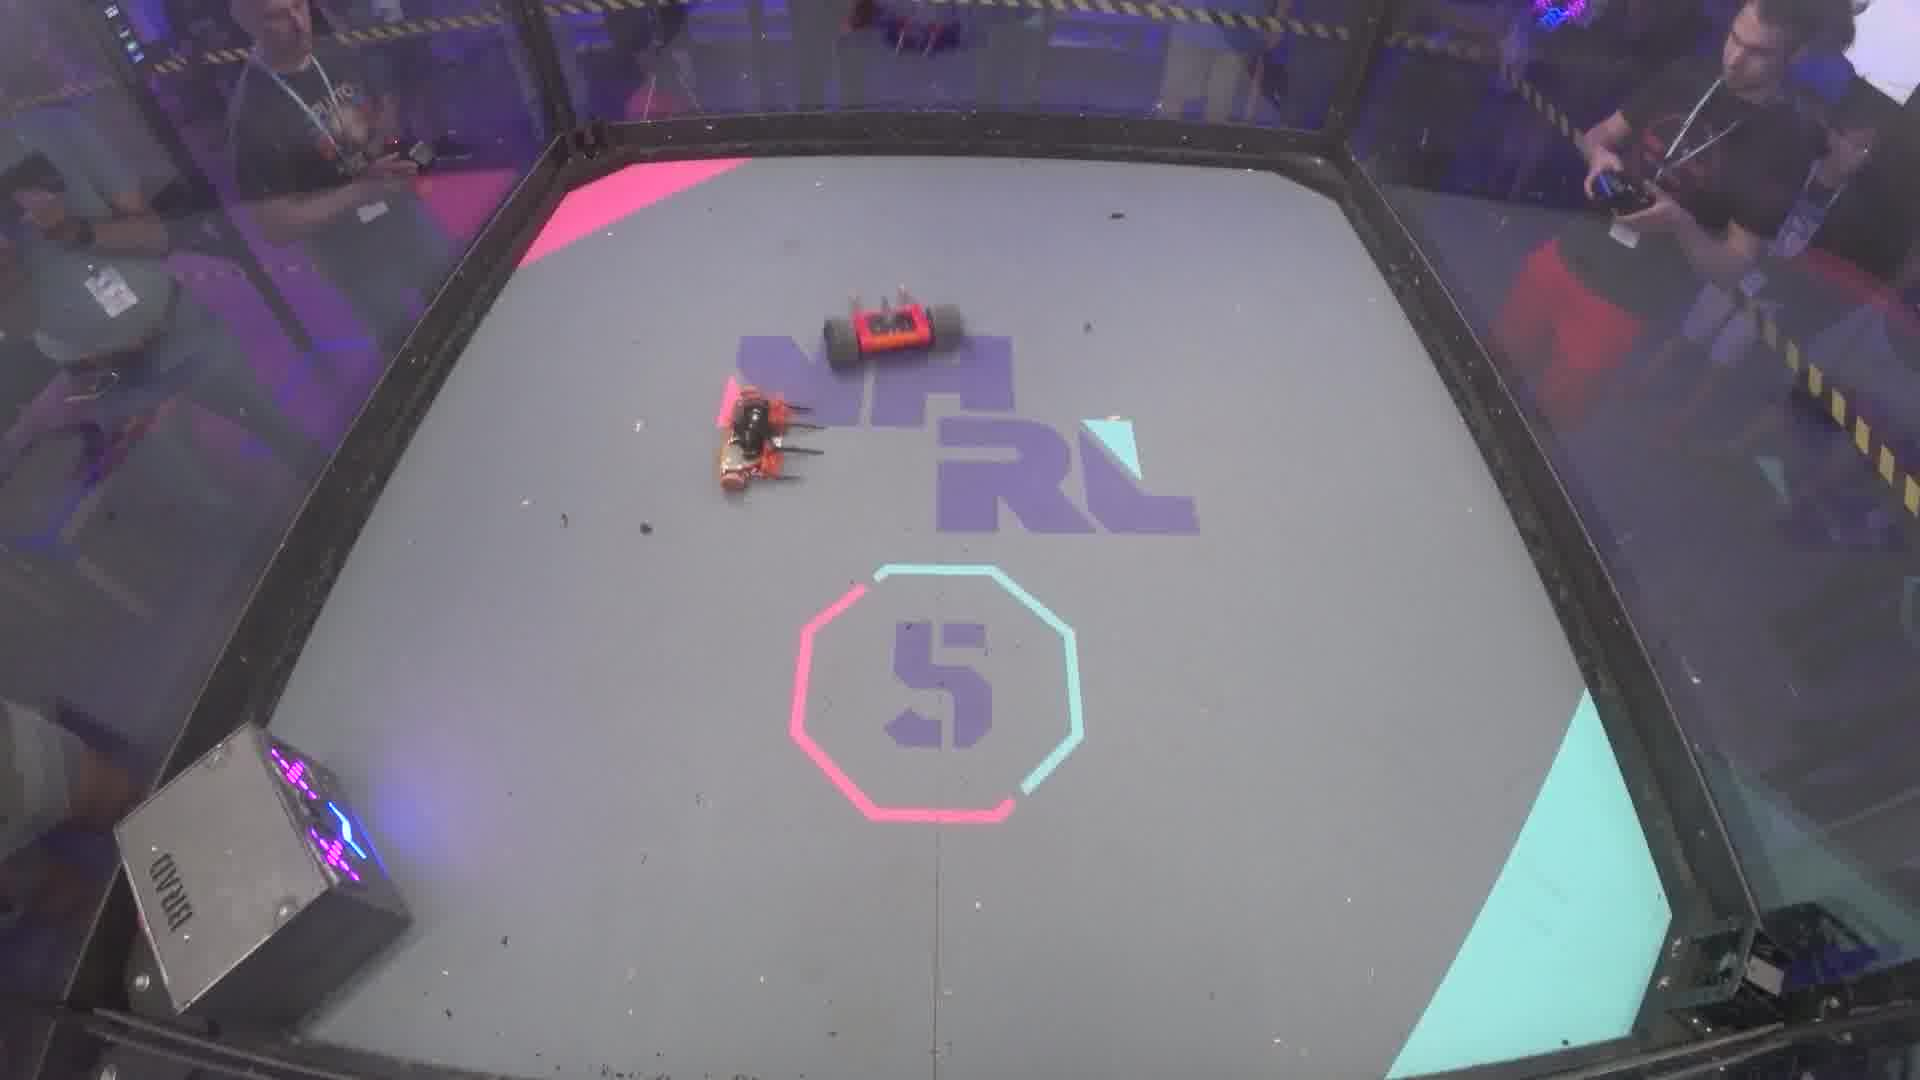combatbot: (713, 377, 825, 493), (823, 290, 964, 372)
housebot: (112, 719, 410, 1023)
